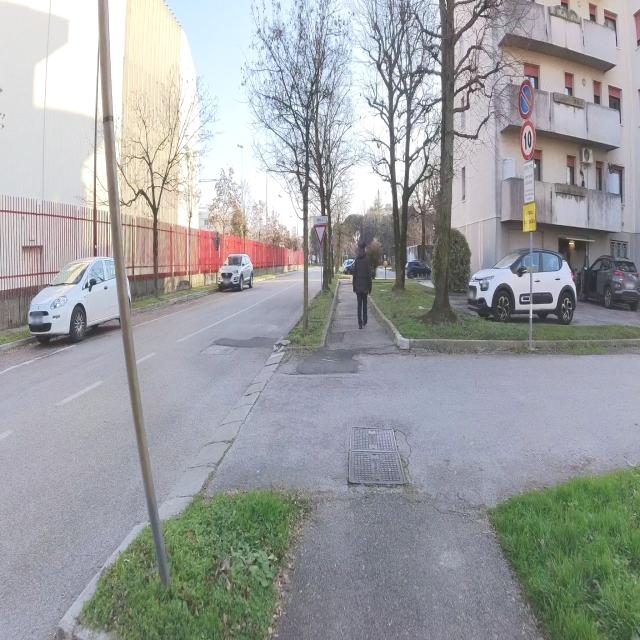car: (27, 255, 132, 345), (466, 244, 577, 324), (581, 254, 640, 310), (218, 252, 254, 292), (405, 259, 432, 280), (343, 257, 355, 274)
